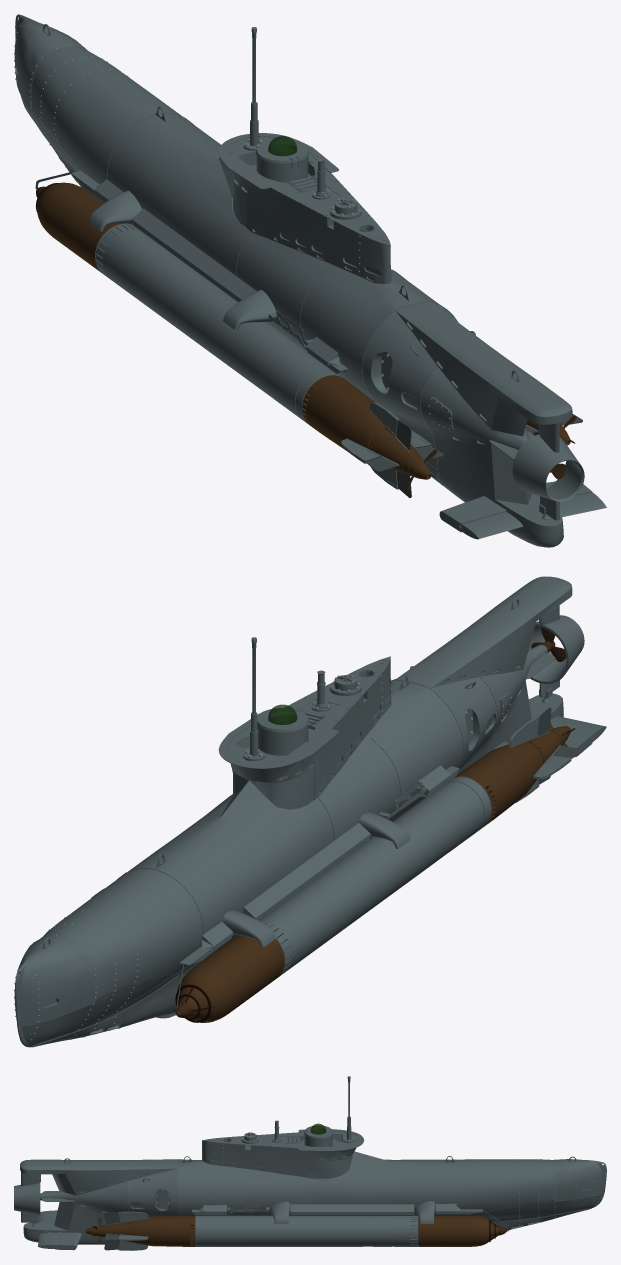
The model's file is Seehund midget submarine cadnav.FBX.
The picture shows the model from 3 angles, top to bottom: view 1: azimuth 30°, elevation 25°; view 2: azimuth 150°, elevation 25°; view 3: azimuth 270°, elevation 25°; orthographic projection. The views are drawn at different scales.
Visible parts, largest first — view 1: SE-CUERP, TR5GBLMT, TR5GCPPR, SE-SUJTO, SE-CUBIE, SE-TOBER, SE-ALETD (×2), TR5GBLAT, SE-ALETI, SE-COMPU, SE-ALETA; view 2: SE-CUERP, TR5GBLMT, TR5GCPPR, SE-CUBIE, SE-SUJTO, SE-TOBER, SE-COMPU, SE-ALETI, TR5GBLAT; view 3: SE-CUERP, TR5GBLM1, TR5GCPP1, SE-SUJTO, SE-CUBIE, SE-TOBER, SE-ALETD (×2), TR5GBLA1, SE-ALETA, SE-PLANC, SE-COMPU.
Boxes of the visible parts, left/top/right/bottom form: SE-CUERP: left=14, top=14, right=572, bottom=547; TR5GBLMT: left=95, top=223, right=431, bottom=489; TR5GCPPR: left=37, top=182, right=431, bottom=479; SE-SUJTO: left=35, top=170, right=405, bottom=373; SE-CUBIE: left=219, top=27, right=390, bottom=246; SE-TOBER: left=512, top=434, right=584, bottom=501; SE-ALETD (×2): left=439, top=481, right=606, bottom=532; TR5GBLAT: left=366, top=420, right=443, bottom=497; SE-ALETI: left=459, top=511, right=523, bottom=539; SE-COMPU: left=256, top=139, right=308, bottom=163; SE-ALETA: left=539, top=423, right=559, bottom=520; SE-CUERP: left=14, top=576, right=572, bottom=1047; TR5GBLMT: left=259, top=716, right=571, bottom=977; TR5GCPPR: left=177, top=726, right=570, bottom=1022; SE-CUBIE: left=218, top=637, right=390, bottom=768; SE-SUJTO: left=91, top=765, right=459, bottom=1015; SE-TOBER: left=529, top=615, right=584, bottom=684; SE-COMPU: left=257, top=708, right=308, bottom=732; SE-ALETI: left=550, top=716, right=606, bottom=742; TR5GBLAT: left=507, top=707, right=583, bottom=784; SE-CUERP: left=20, top=1133, right=606, bottom=1246; TR5GBLM1: left=106, top=1211, right=418, bottom=1250; TR5GCPP1: left=85, top=1215, right=498, bottom=1246; SE-SUJTO: left=192, top=1201, right=508, bottom=1231; SE-CUBIE: left=202, top=1076, right=364, bottom=1151; SE-TOBER: left=14, top=1183, right=40, bottom=1215; SE-ALETD (×2): left=38, top=1210, right=81, bottom=1250; TR5GBLA1: left=104, top=1212, right=120, bottom=1250; SE-ALETA: left=21, top=1172, right=40, bottom=1223; SE-PLANC: left=131, top=1189, right=169, bottom=1208; SE-COMPU: left=303, top=1125, right=332, bottom=1138.
Bounding box in the file's own units: 1848 × 2612 × 8469.
